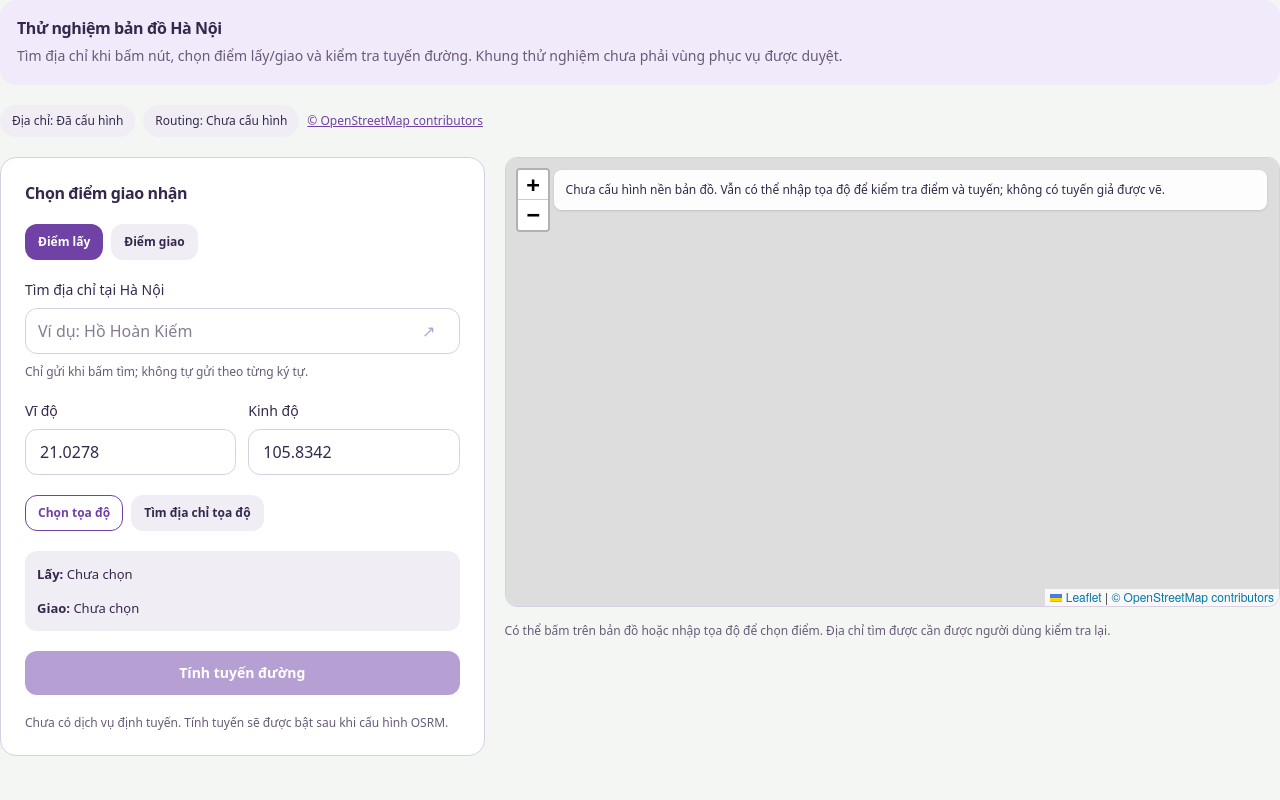
map playground behavior › only searches on submit, never per keystroke
Step 1. Type "Hồ Hoàn Kiếm" into the field labelled "Tìm địa chỉ tại Hà Nội" → (220, 331), box [38,309,403,353]
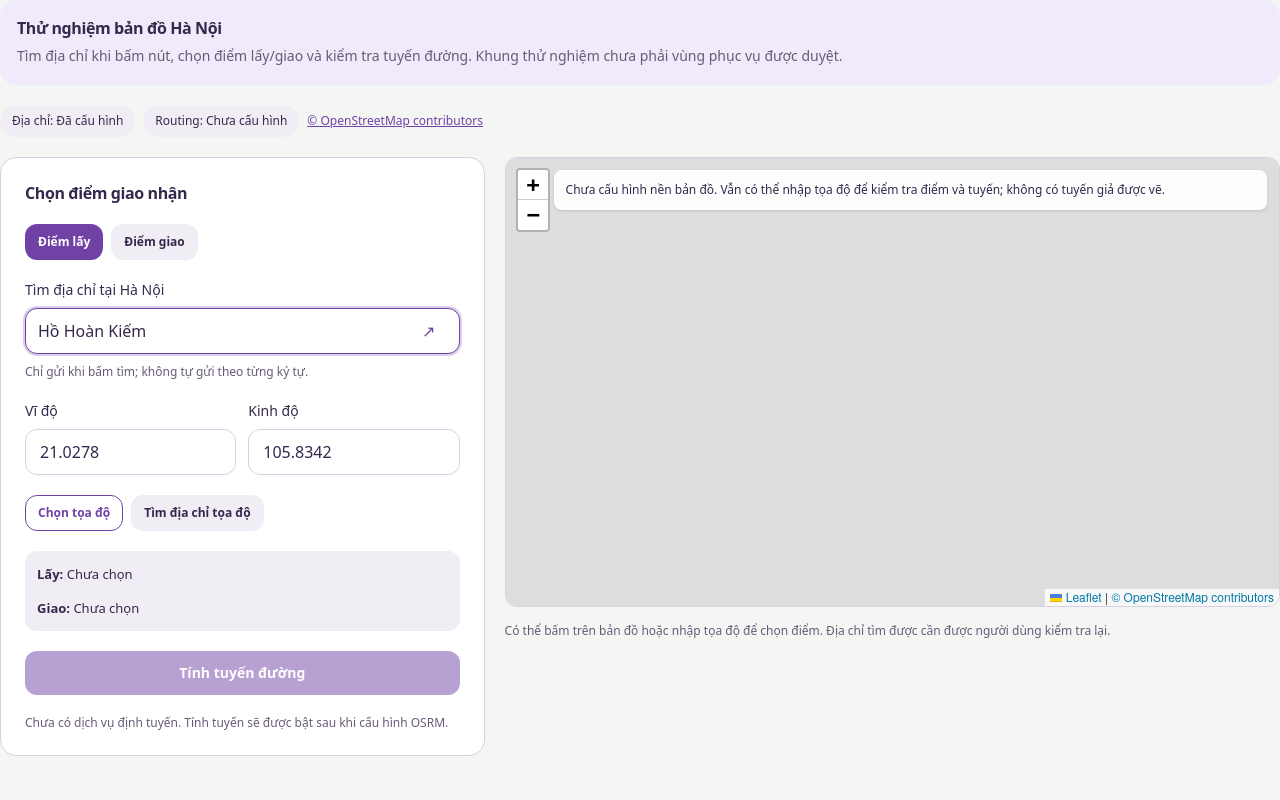
Step 2. Click the button named "Tìm địa chỉ" → (429, 331), box [411,313,447,349]
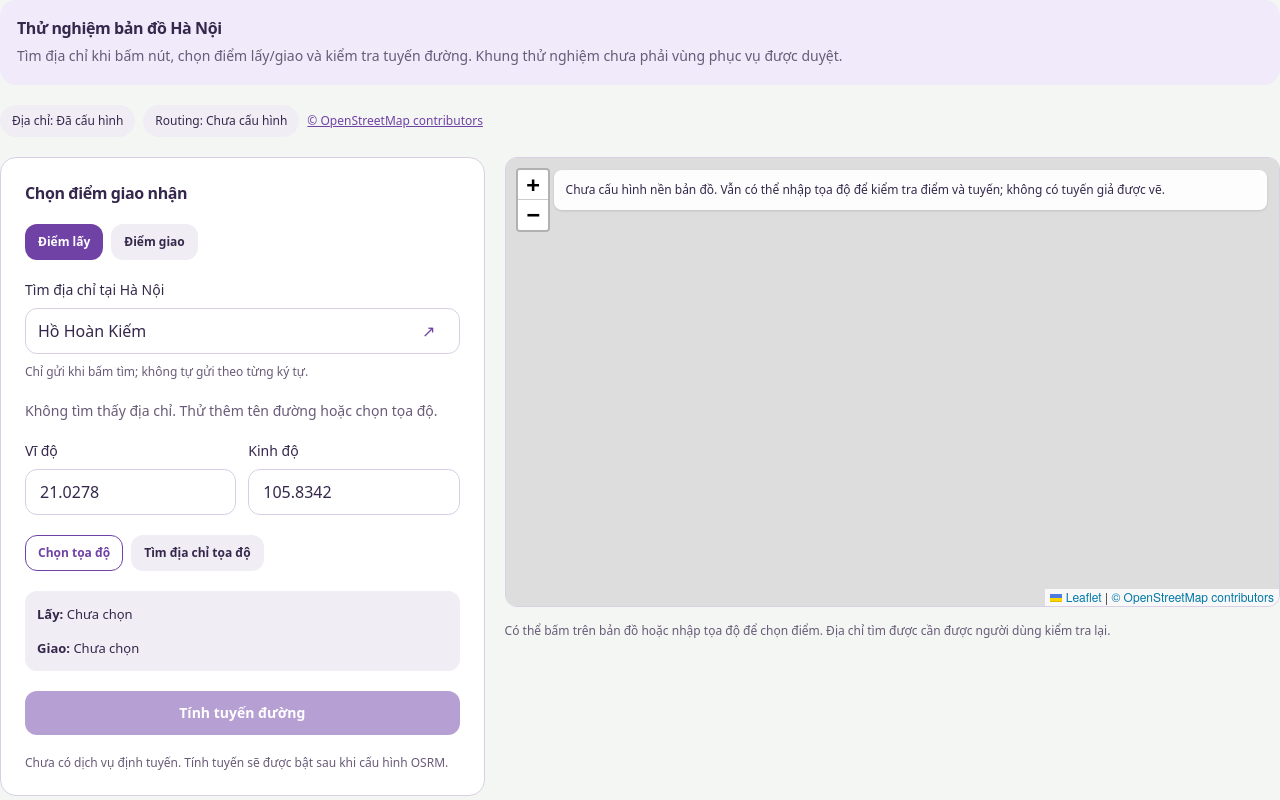
Now the text "Không tìm thấy địa chỉ. Thử thêm tên đường hoặc chọn tọa độ." is shown, box [25,401,460,421]
